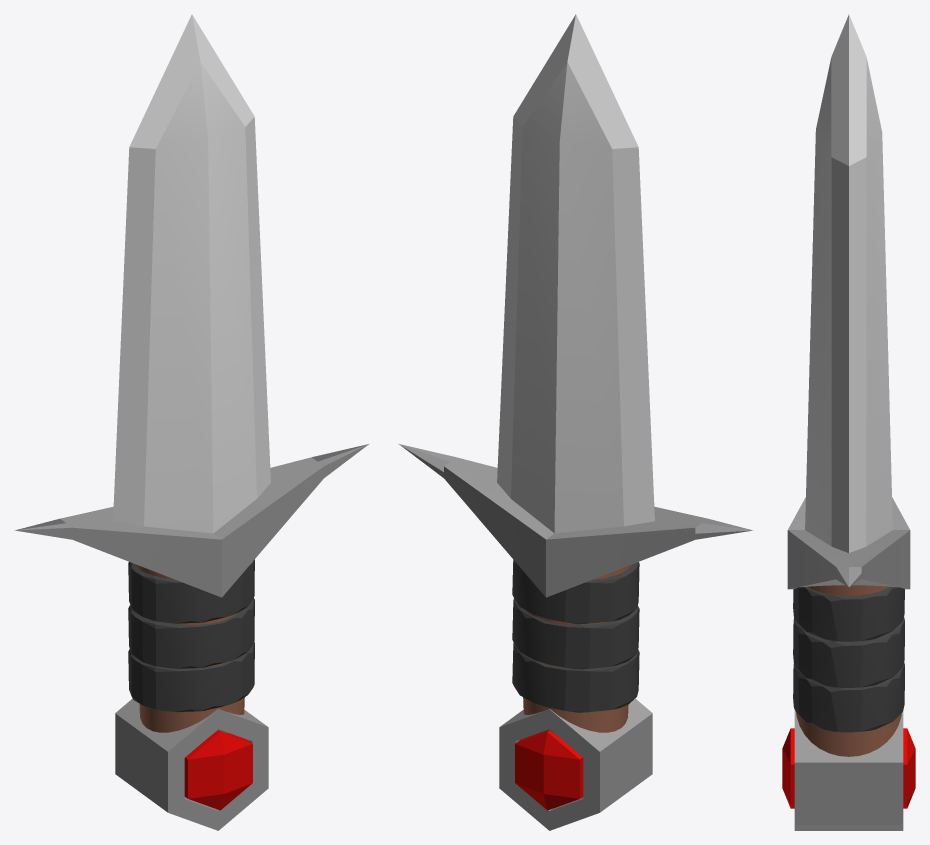
File: uploads_files_4474047_long+sword.fbx
The picture shows the model from 3 angles, left to right: view 1: azimuth 30°, elevation 25°; view 2: azimuth 150°, elevation 25°; view 3: azimuth 270°, elevation 25°; orthographic projection. The views are drawn at different scales.
Visible parts, largest first — view 1: Long sword; view 2: Long sword; view 3: Long sword.
Boxes of the visible parts, x1,y1,x2,y2 form: Long sword: (14, 14, 368, 830); Long sword: (399, 14, 753, 830); Long sword: (782, 14, 915, 830).
Size of the model in its own units: 432 by 927 by 137.
